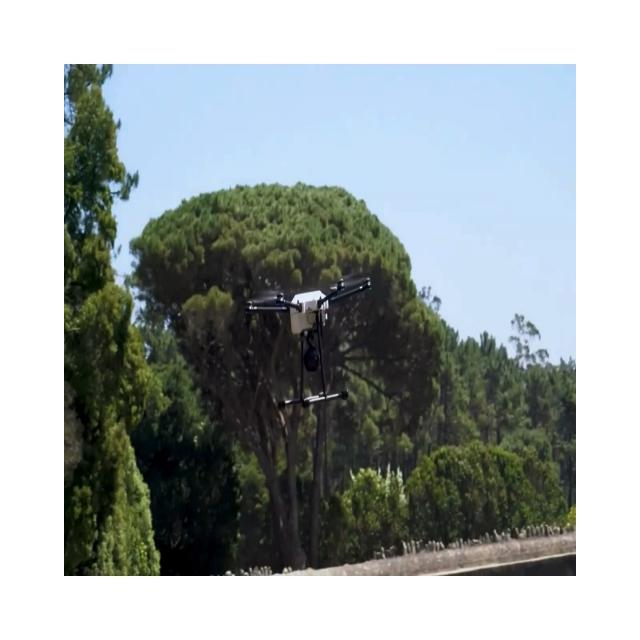drone: (244, 273, 372, 411)
